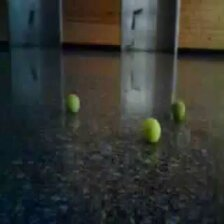tennis: (141, 117, 161, 143), (65, 93, 81, 116), (172, 101, 186, 120)
